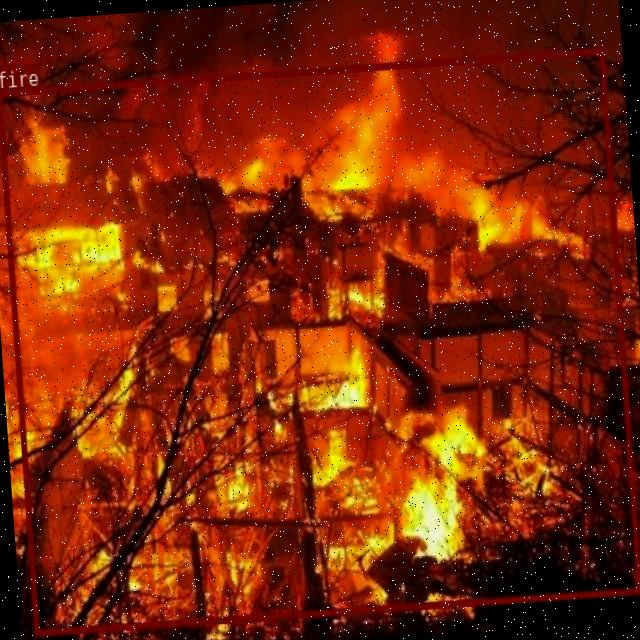fire: (0, 47, 640, 634)
